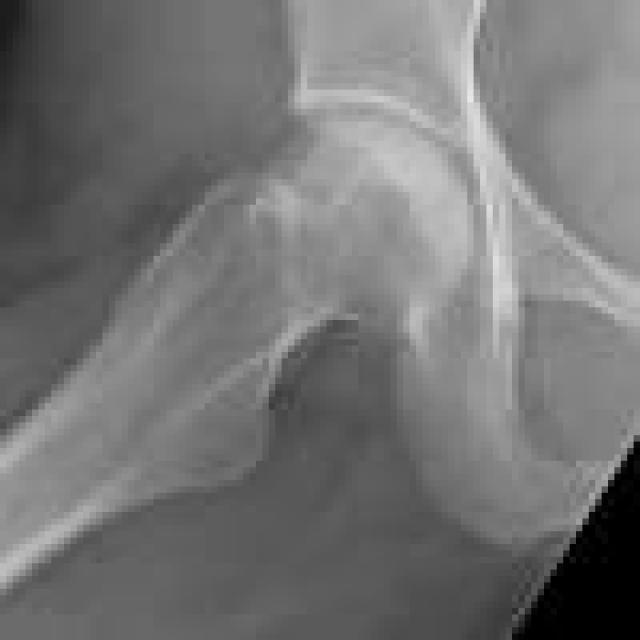Avulsion-fracture-: (231, 260, 385, 458)
